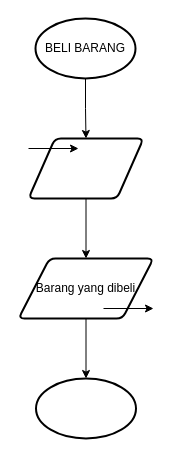
This 179x456 diagram has some shape labels left out. The shapes that lost their labels are listed below. From the top down, each one's box as (x1, y1, x2, y2) in pixels, then its label:
(27, 137, 144, 199): Pilihan membeli barang
(34, 377, 136, 439): END
